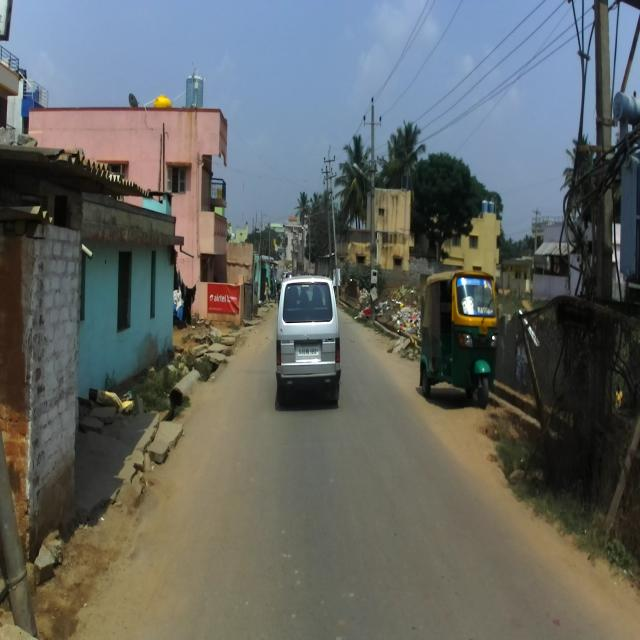auto ahead at: (418, 270, 503, 412)
car ahead at: (273, 273, 343, 409)
